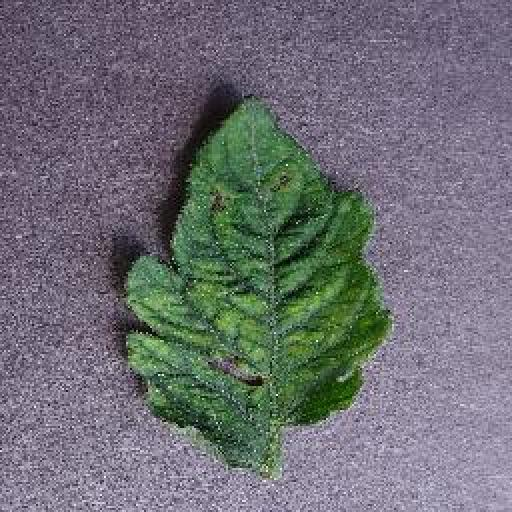Mosaic Virus: (120, 88, 393, 476)
